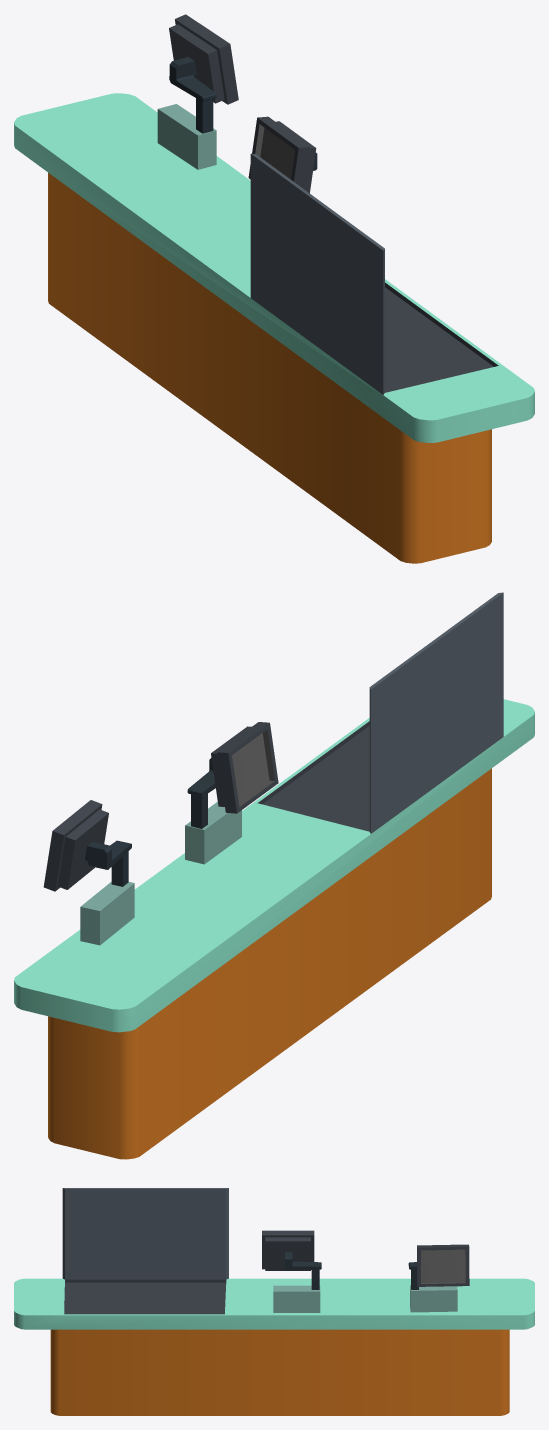
Rendered from CashierCheckoutLane.fbx_Mesh.fbx.
The picture shows the model from 3 angles, top to bottom: view 1: azimuth 30°, elevation 25°; view 2: azimuth 150°, elevation 25°; view 3: azimuth 270°, elevation 25°; orthographic projection. The views are drawn at different scales.
Parts seen in each view (by area): view 1: Checkout; view 2: Checkout; view 3: Checkout.
Boxes of the visible parts, x1,y1,x2,y2 form: Checkout: (14, 14, 534, 563); Checkout: (14, 592, 534, 1159); Checkout: (14, 1188, 534, 1415).
Bounding box in the file's own units: 190 × 410 × 988.
